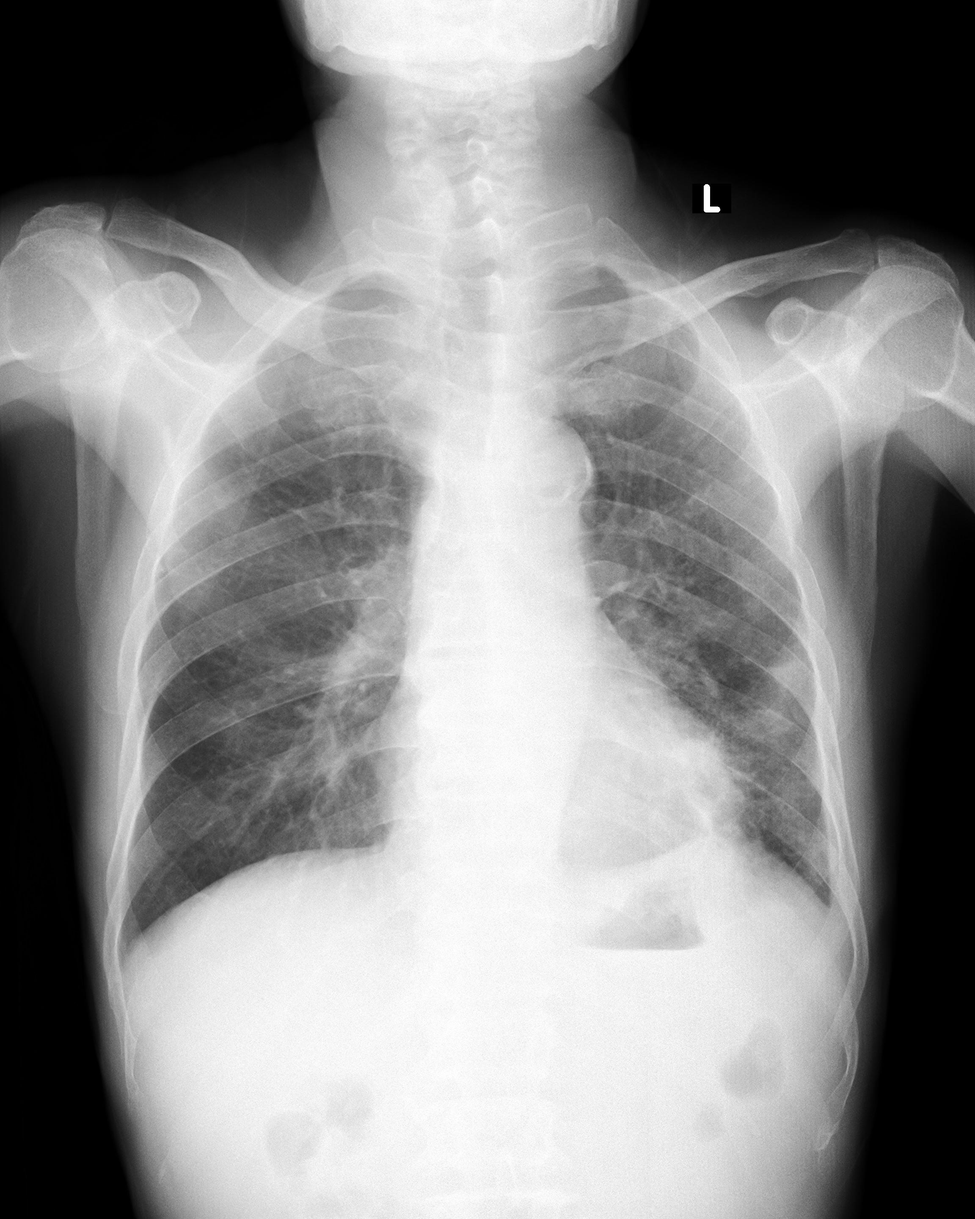Aortic enlargement: (488, 413, 600, 529)
Pleural thickening: (821, 820, 849, 932)
Pulmonary fibrosis: (590, 566, 678, 612), (667, 778, 714, 833)
